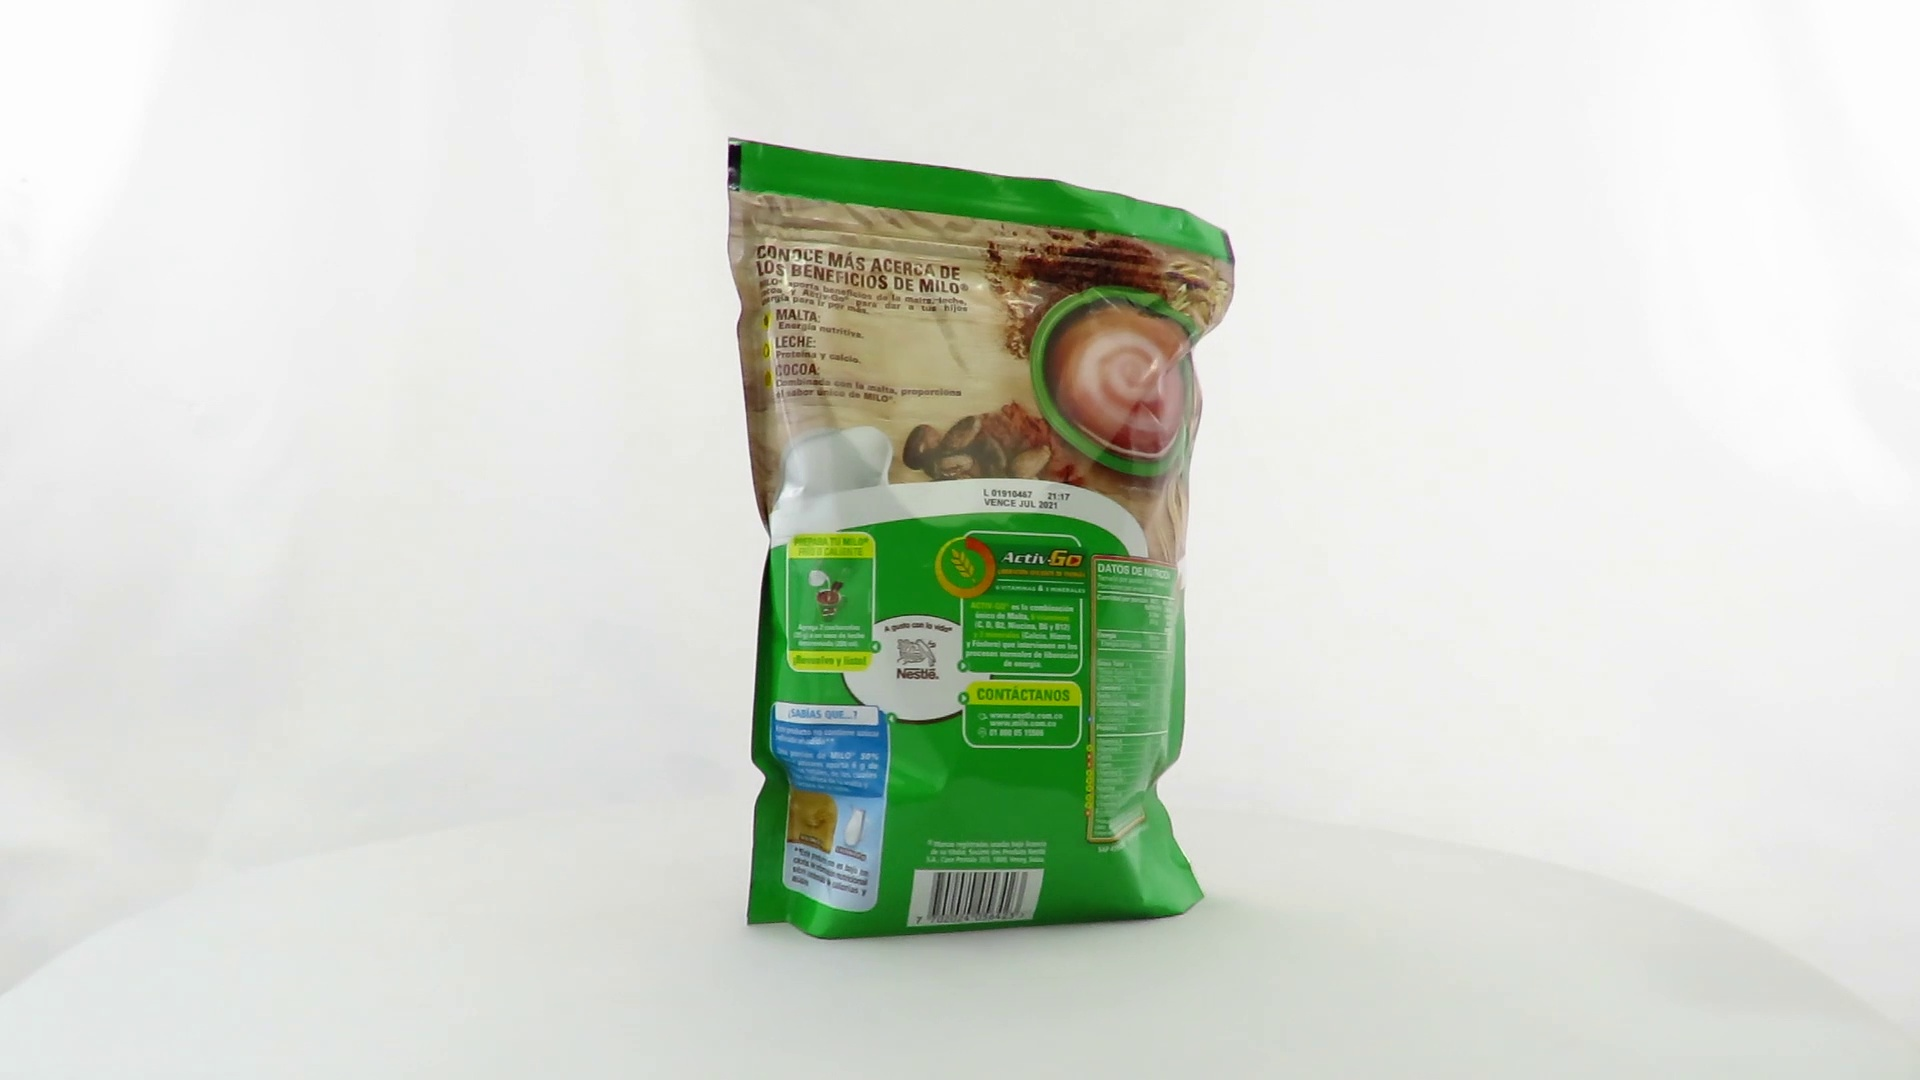COL0170205DYP50000: (723, 132, 1241, 945)
